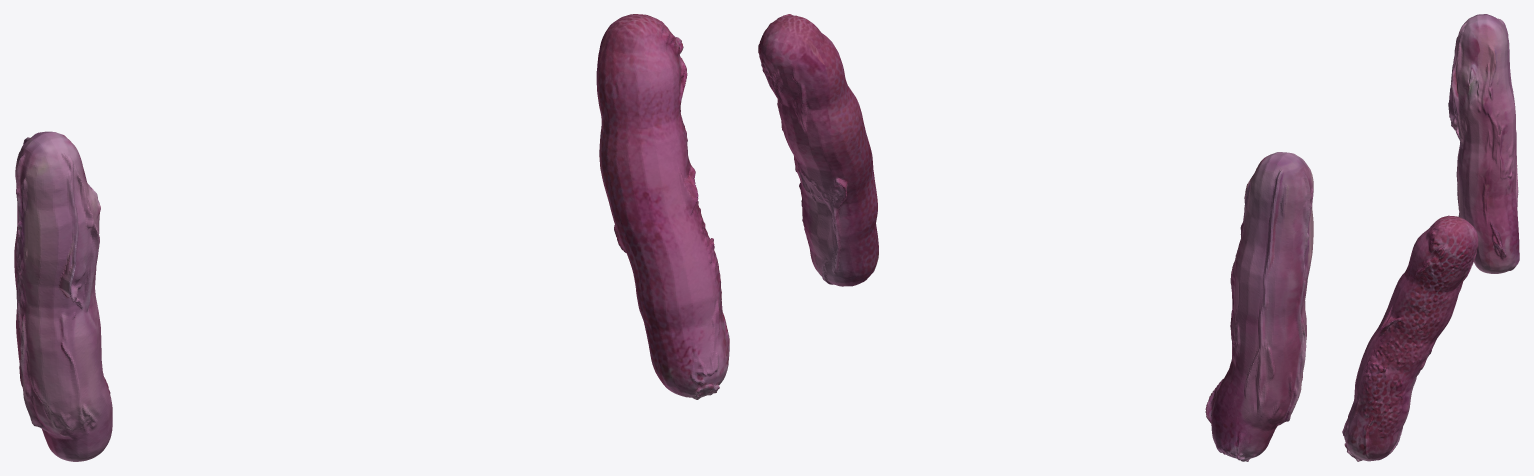
File: shigella.glb
3 renders of one model, left to right at view 1: azimuth 30°, elevation 25°; view 2: azimuth 150°, elevation 25°; view 3: azimuth 270°, elevation 25°, orthographic. The views are drawn at different scales.
Parts seen in each view (by area): view 1: tripo_node_da2f01e1-bffe-430f-ab6c-09fefc5190fc; view 2: tripo_node_da2f01e1-bffe-430f-ab6c-09fefc5190fc; view 3: tripo_node_da2f01e1-bffe-430f-ab6c-09fefc5190fc.
Part boxes in pixels (x1,y1,x2,y2): tripo_node_da2f01e1-bffe-430f-ab6c-09fefc5190fc: (14, 14, 729, 461); tripo_node_da2f01e1-bffe-430f-ab6c-09fefc5190fc: (758, 14, 1313, 461); tripo_node_da2f01e1-bffe-430f-ab6c-09fefc5190fc: (1342, 14, 1519, 461).
Bounding box in the file's own units: 1 × 0.5088 × 0.3348.
Materials: 1 (1 with a texture image).
